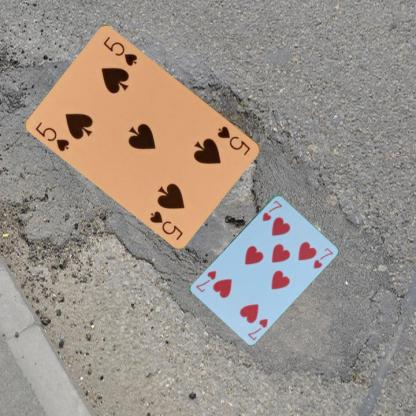5s: (214, 123, 252, 157), (33, 119, 71, 153)
7h: (245, 316, 269, 342), (260, 198, 283, 222)
